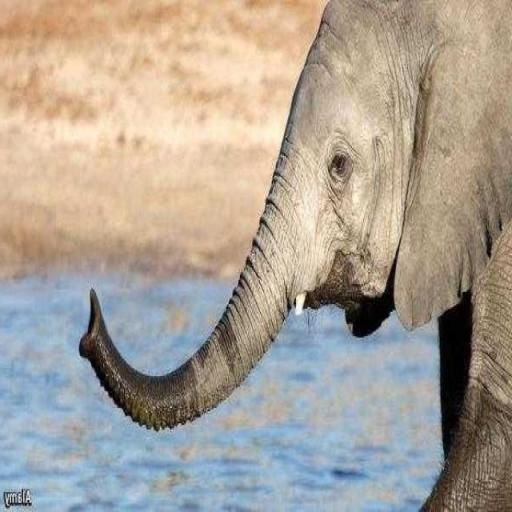Elephant: (78, 0, 512, 509)
